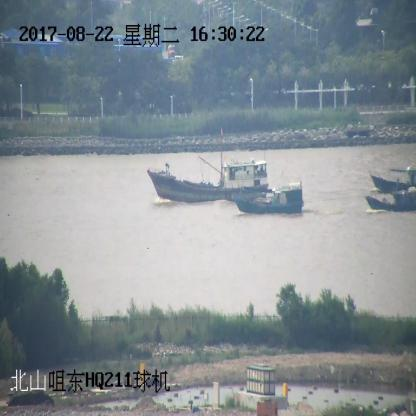Fishing Boat: (148, 131, 267, 202), (233, 183, 304, 216), (370, 163, 416, 195), (366, 188, 416, 213)
